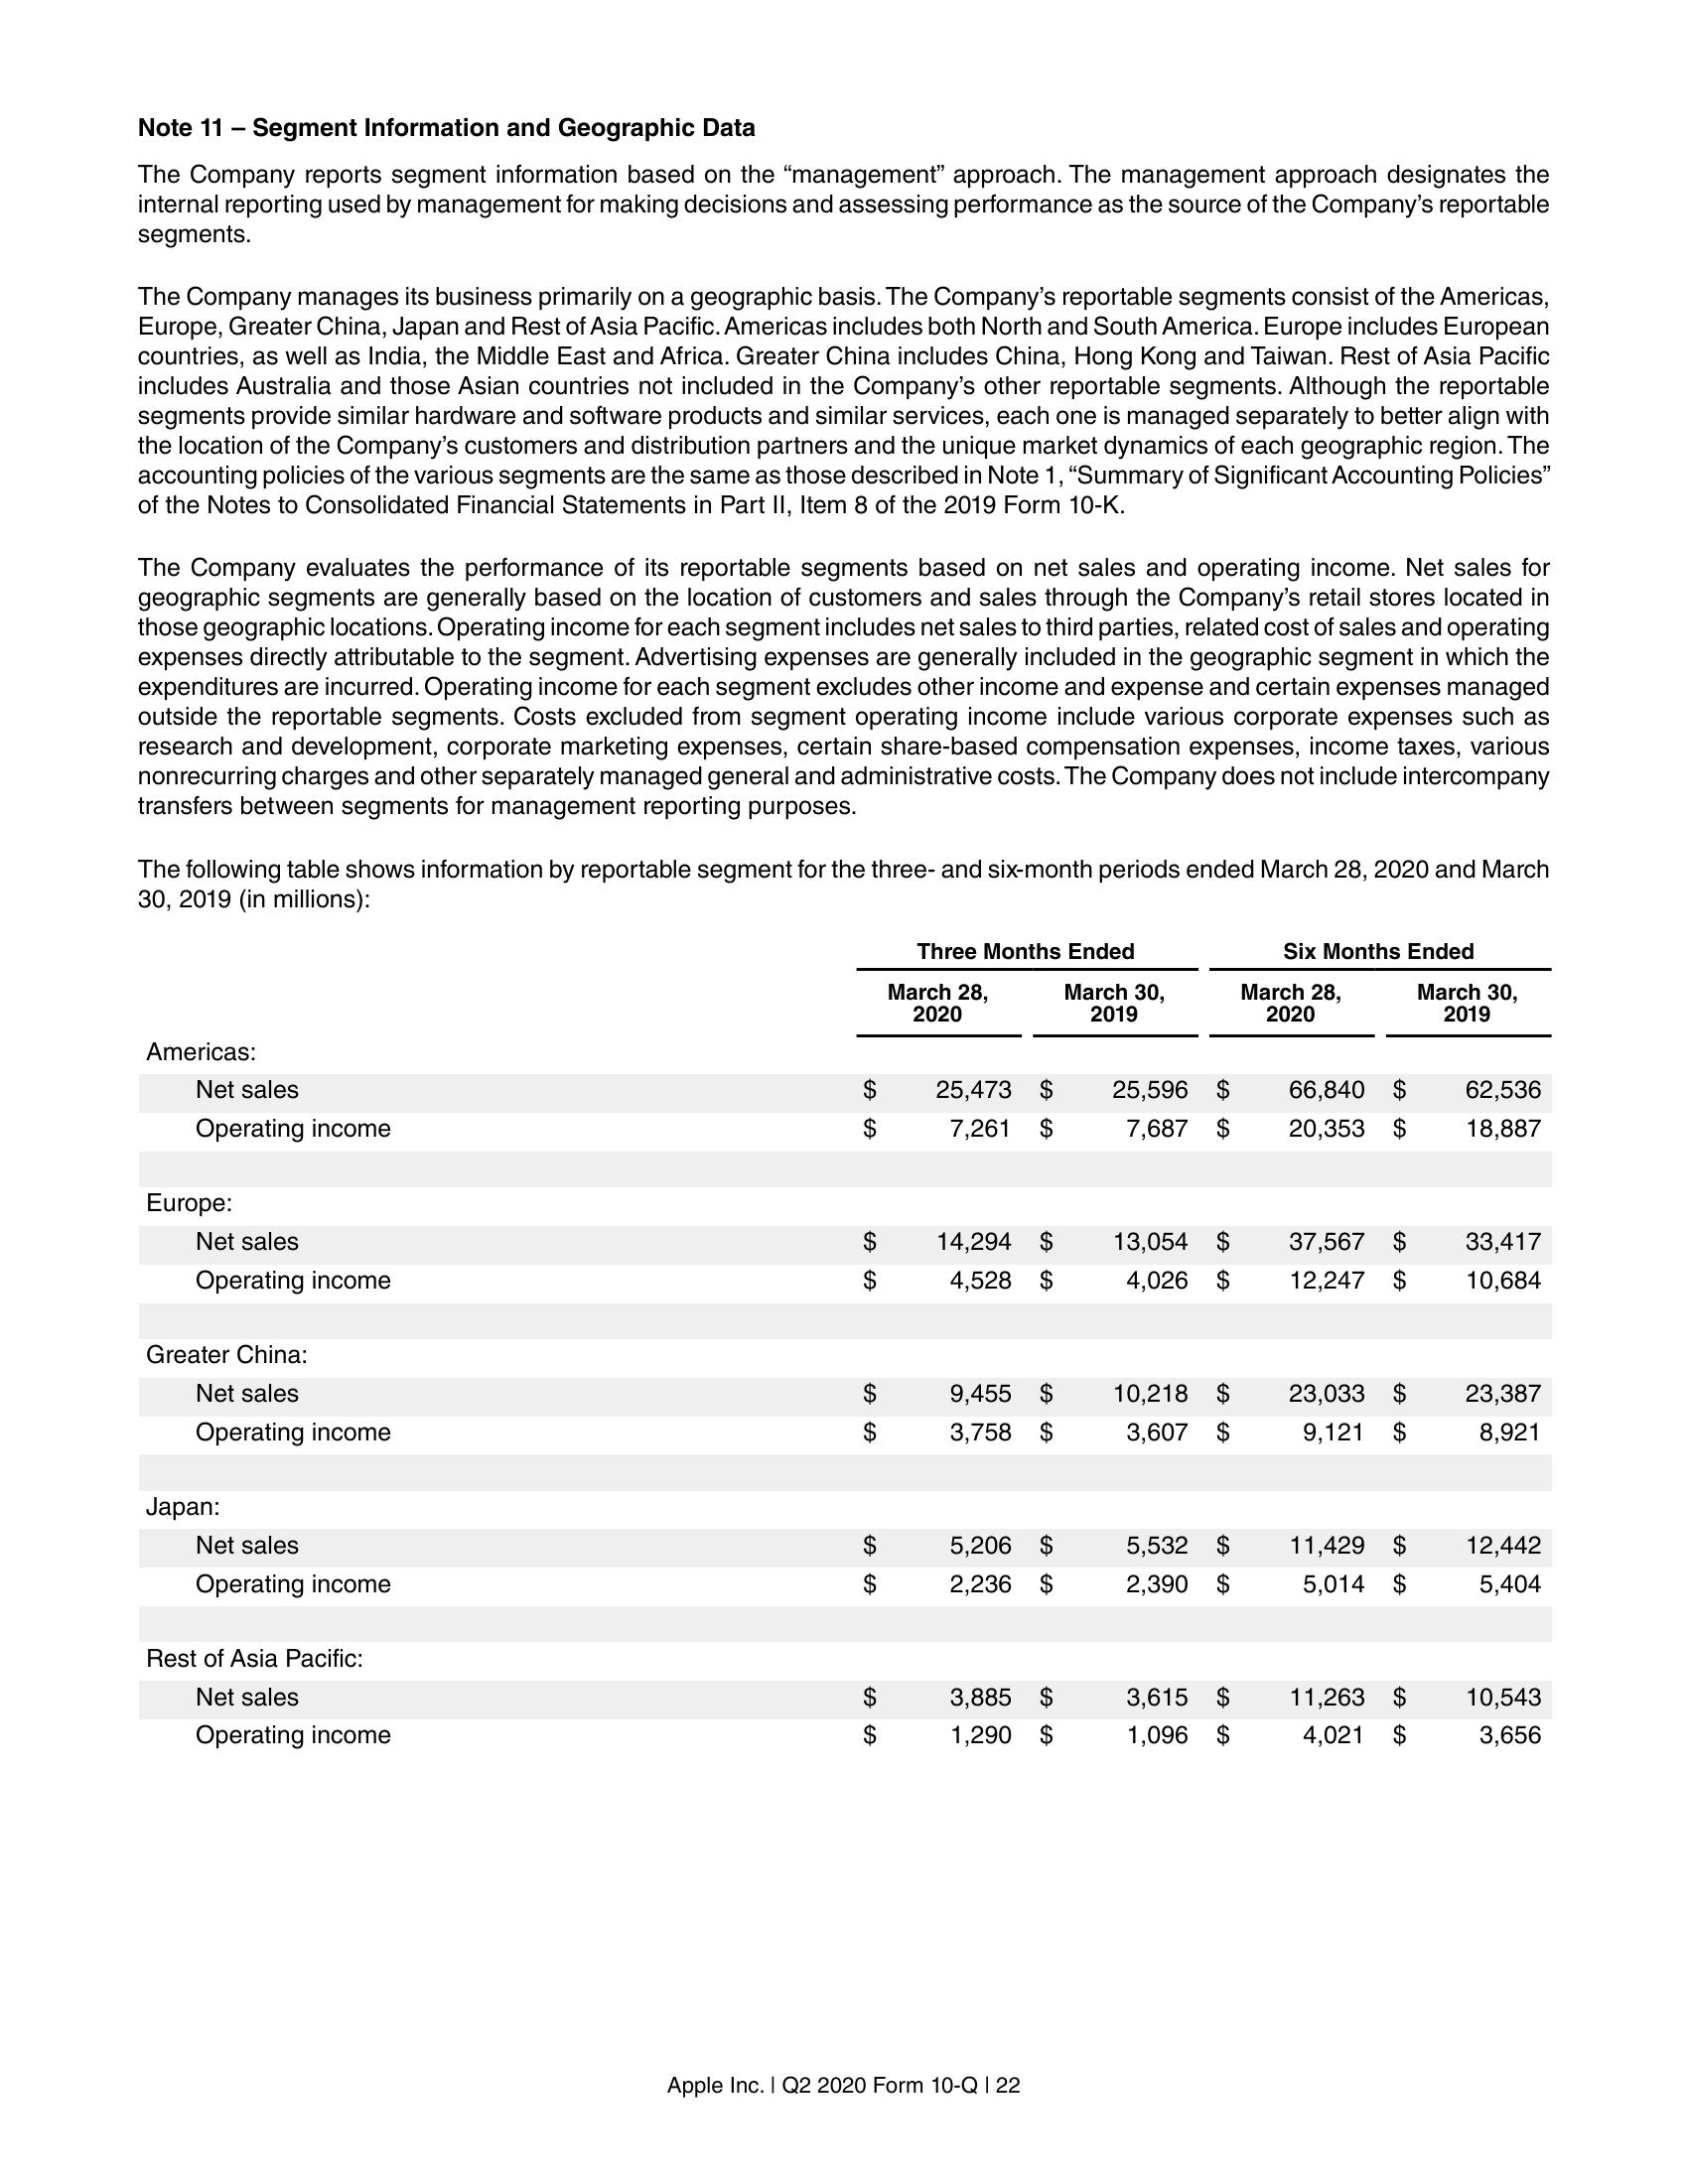table: (135, 932, 1557, 1755)
